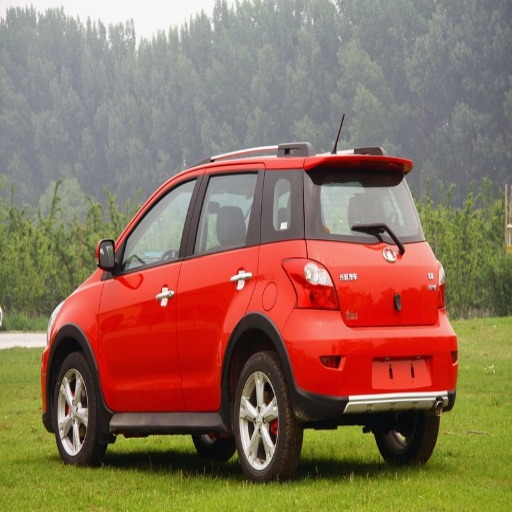back_bumper: (286, 311, 456, 420)
back_glass: (310, 167, 420, 239)
back_left_door: (177, 163, 263, 409)
trunk: (318, 243, 441, 361)
